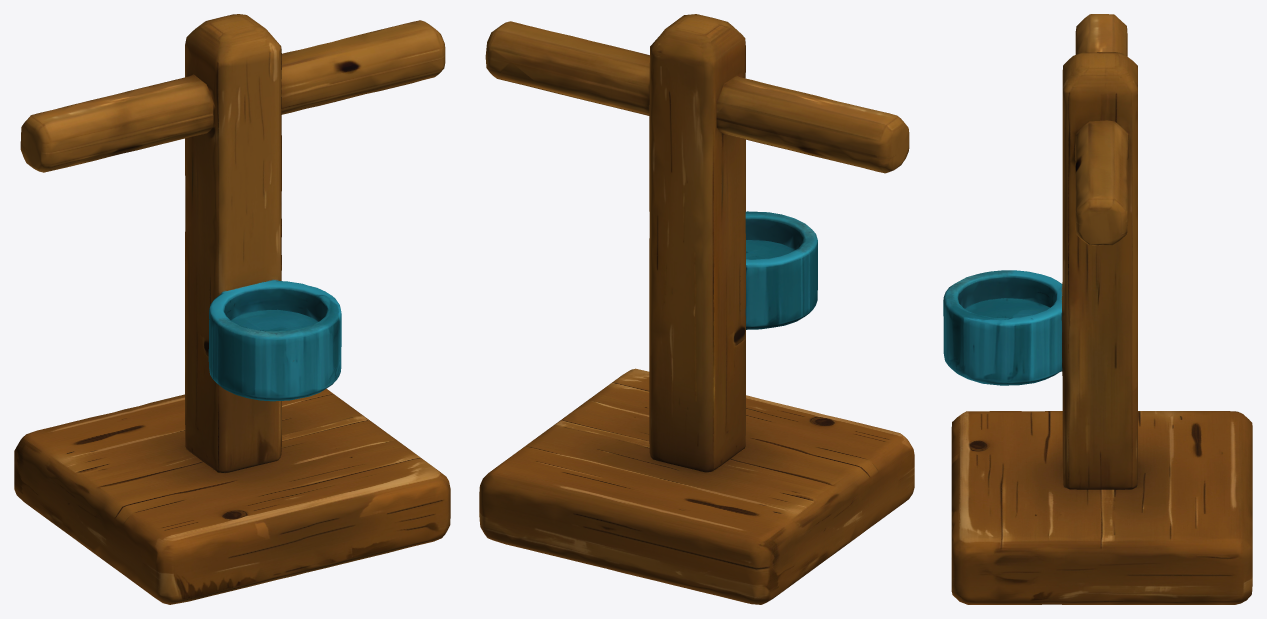
Rendered from parrot_perch.glb.
3 renders of one model, left to right at view 1: azimuth 30°, elevation 25°; view 2: azimuth 150°, elevation 25°; view 3: azimuth 270°, elevation 25°, orthographic. The views are drawn at different scales.
Parts seen in each view (by area): view 1: world; view 2: world; view 3: world.
Part boxes in pixels (x1=…): world: x1=14, y1=14, x2=450, y2=604; world: x1=479, y1=14, x2=914, y2=604; world: x1=943, y1=14, x2=1252, y2=604.
Size of the model in its own units: 0.856 by 1 by 0.5859.
1 material, 1 textured.
